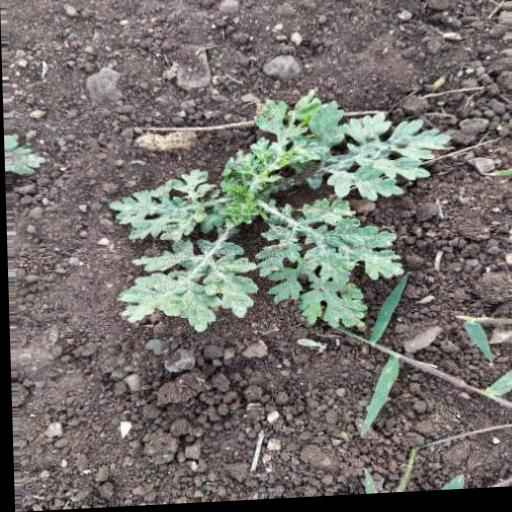weed: (102, 82, 456, 338)
